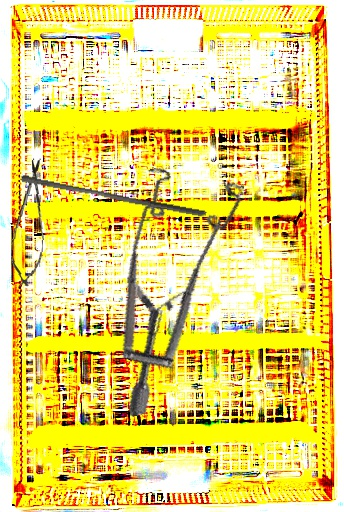Micro Scissor: (8, 155, 51, 290)
Pusher: (19, 174, 208, 218)
Speculum: (77, 149, 289, 418)
